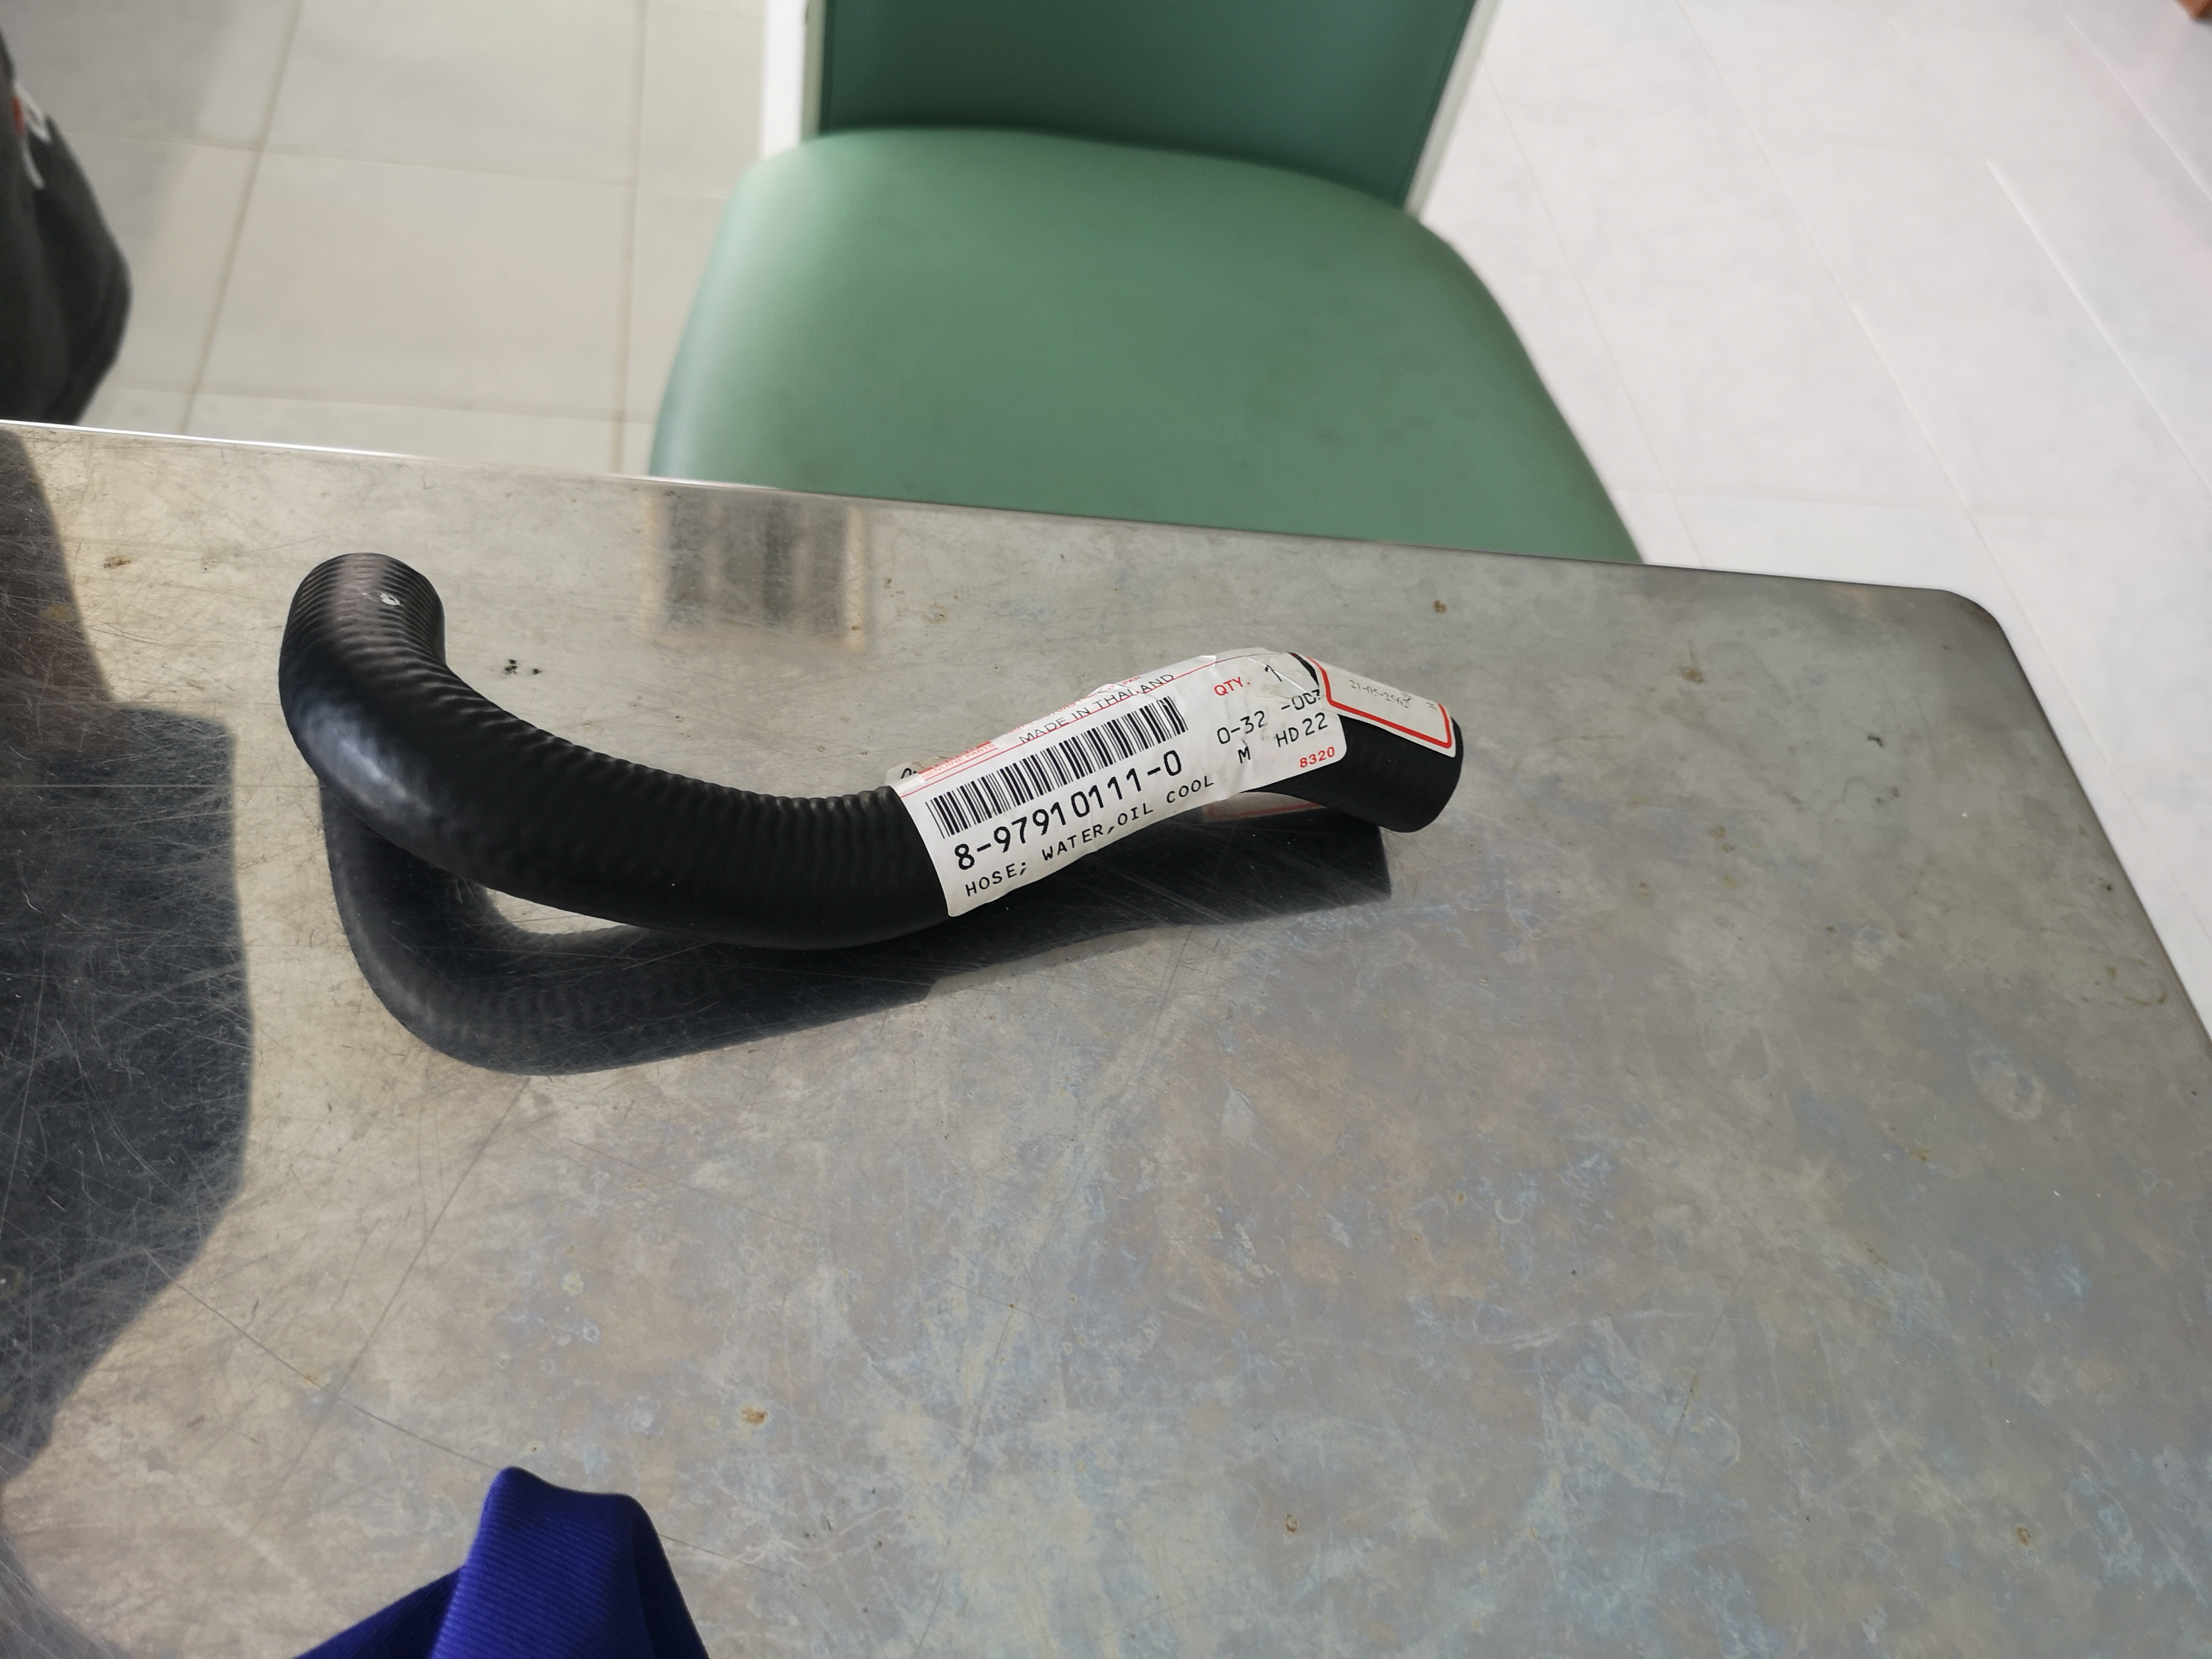ท่อยางน้ำมันเลี้ยงเทอร์โบ: (242, 220, 1482, 1460)
